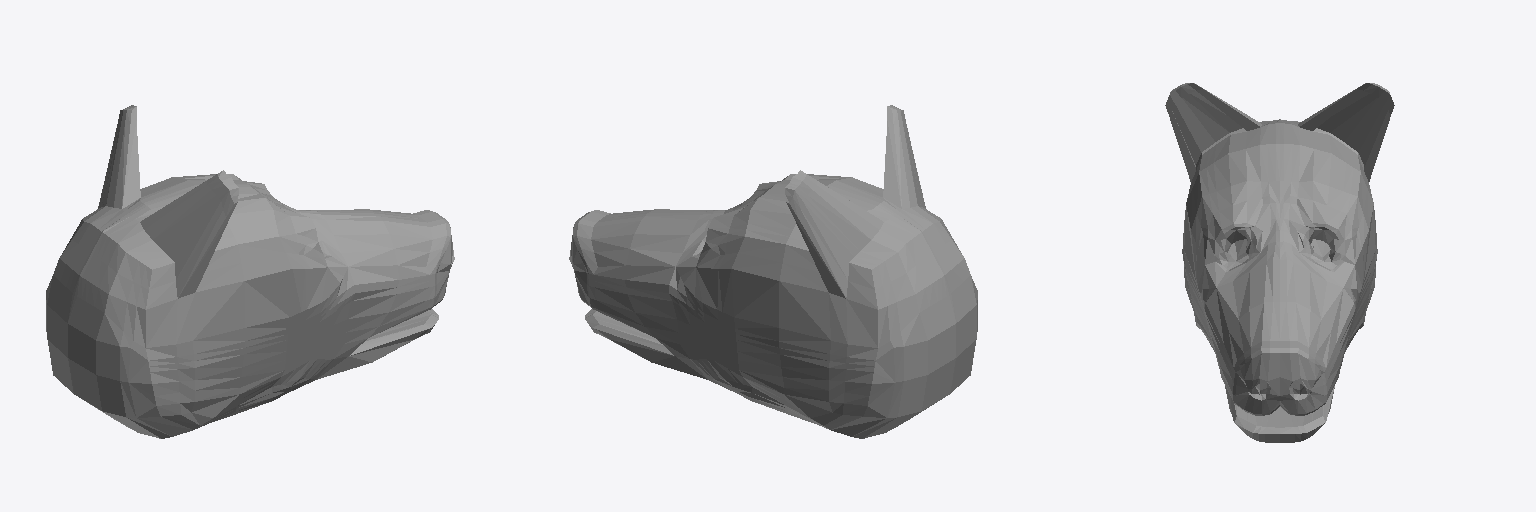
The model's file is head_smooth.obj.
3 renders of one model, left to right at view 1: azimuth 30°, elevation 25°; view 2: azimuth 150°, elevation 25°; view 3: azimuth 270°, elevation 25°, orthographic.
Parts seen in each view (by area): view 1: dog.001_Cube.000; view 2: dog.001_Cube.000; view 3: dog.001_Cube.000.
Part boxes in pixels (x1,y1,x2,y2): dog.001_Cube.000: (46, 105, 454, 438); dog.001_Cube.000: (569, 105, 977, 438); dog.001_Cube.000: (1165, 83, 1394, 442).
Bounding box in the file's own units: 2.04 × 1.41 × 1.08.